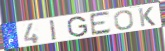4: (23, 22, 41, 45)
E: (89, 10, 112, 37)
G: (66, 16, 89, 38)
I: (49, 19, 59, 41)
K: (137, 6, 157, 28)
O: (114, 9, 136, 31)
